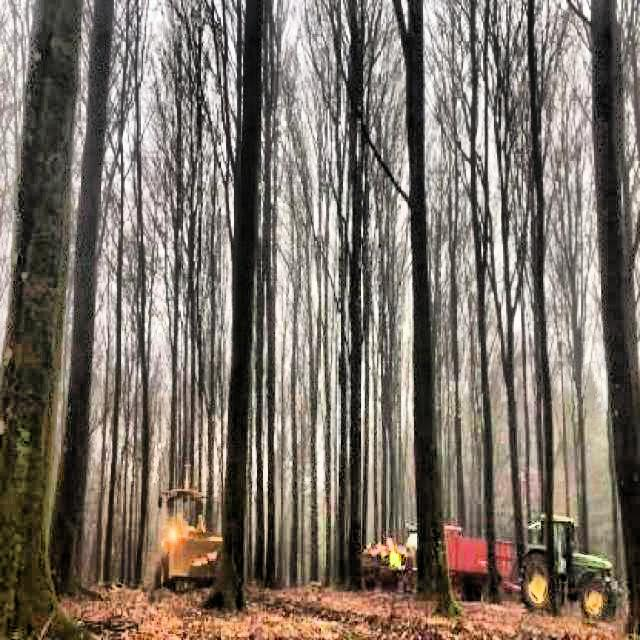dump_truck: (406, 522, 512, 610)
